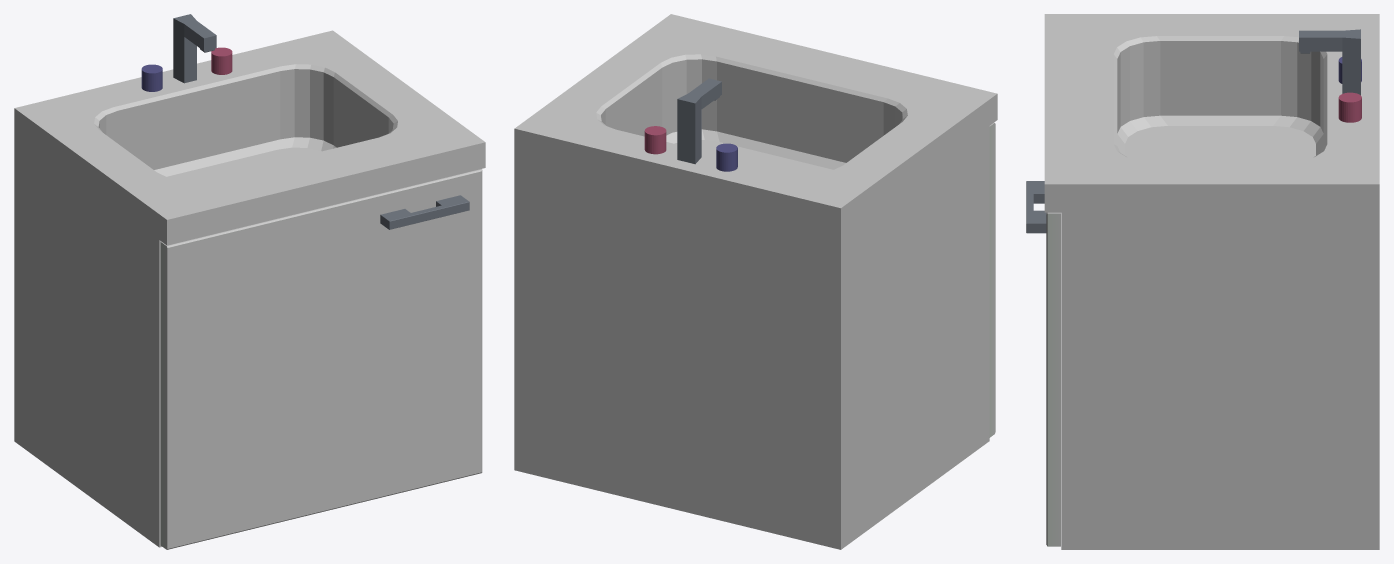
The model's file is lavuaari_GJ22.fbx.
3 renders of one model, left to right at view 1: azimuth 30°, elevation 25°; view 2: azimuth 150°, elevation 25°; view 3: azimuth 270°, elevation 25°, orthographic. The views are drawn at different scales.
Parts seen in each view (by area): view 1: Kaappi, Ovi; view 2: Kaappi, Ovi; view 3: Kaappi, Ovi.
Part boxes in pixels (x1,y1,x2,y2): Kaappi: (14,14,485,547); Ovi: (160,169,482,549); Kaappi: (514,14,997,549); Ovi: (989,122,995,437); Kaappi: (1044,14,1379,549); Ovi: (1026,181,1060,546).
Size of the model in its own units: 100 by 118 by 87.57.
